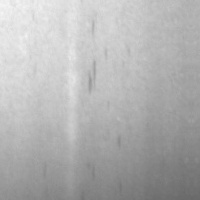inclusion: (84, 57, 102, 95)
